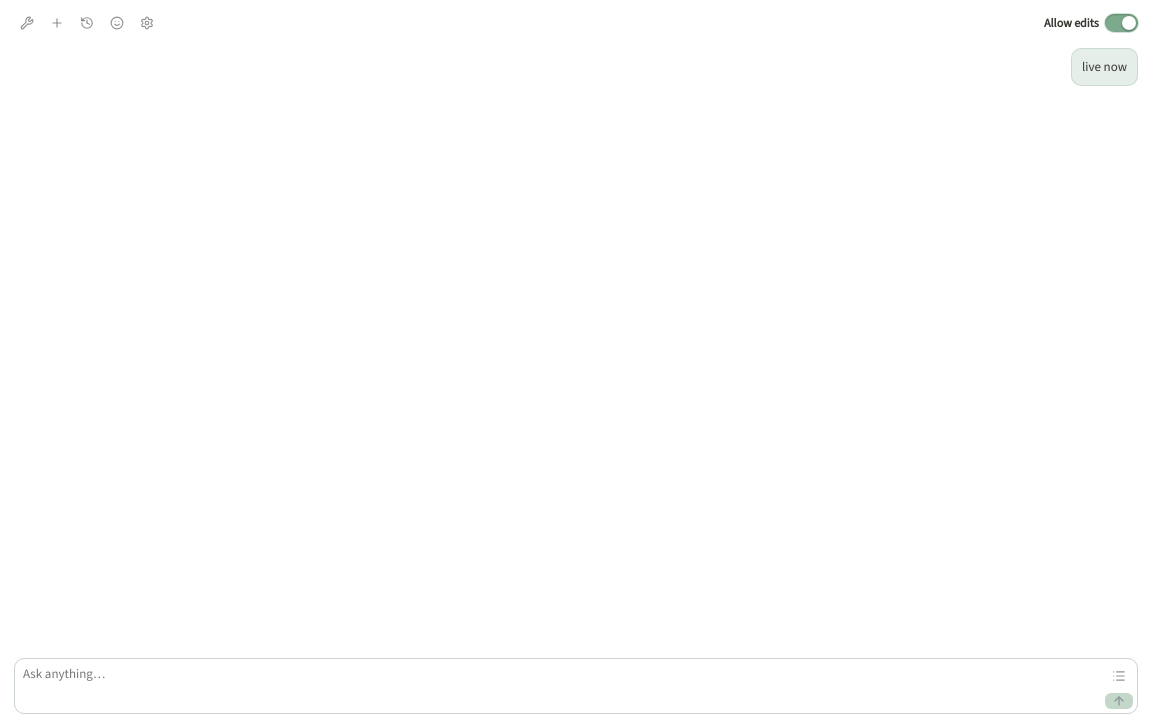
Test: SidebarChat › opens a closed session and renders its messages
The width and height of the screenshot is (1152, 720).
Expected: the text "live now" is shown, [1082,58,1127,75]
Step 1. Click the button with test id "chat-history-btn" → click(87, 23), box [74,10,100,36]
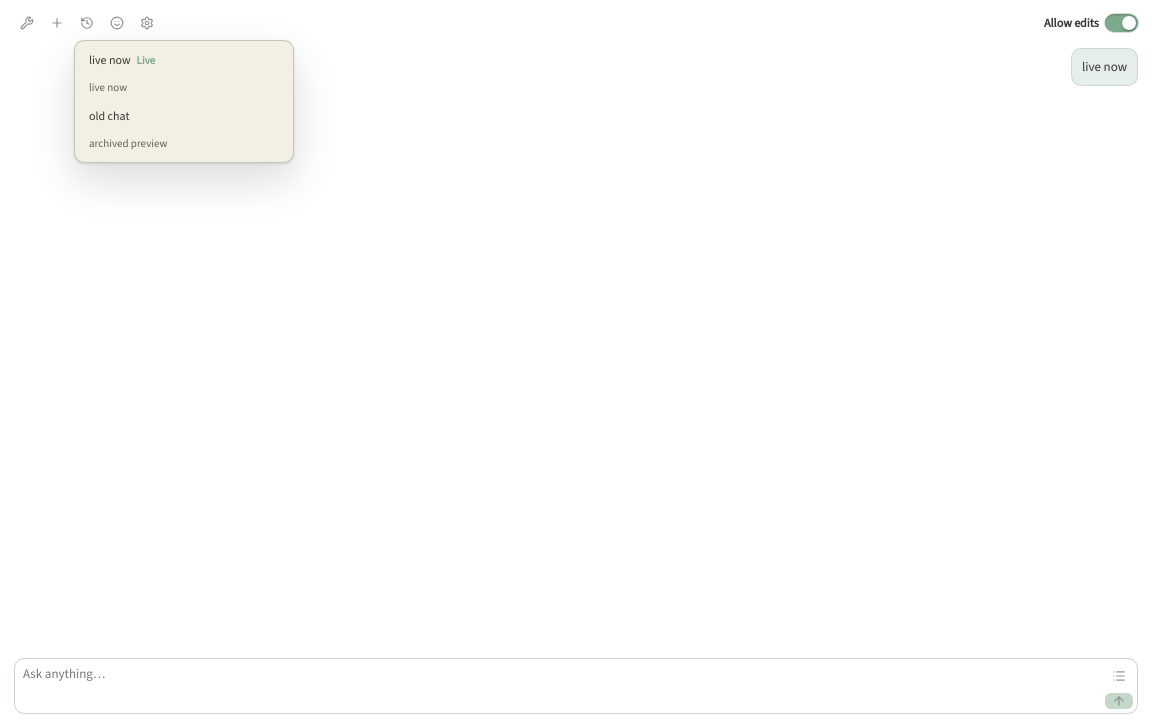
Expected: the button with test id "chat-session-s-old" is shown
Expected: the button with test id "chat-session-s-live" reads "live now Live live now", [79,46,289,101]
Expected: the button with test id "chat-session-s-old" shows "archived preview"
Step 2. Click the button with test id "chat-session-s-old" → click(184, 130), box [79,102,289,157]
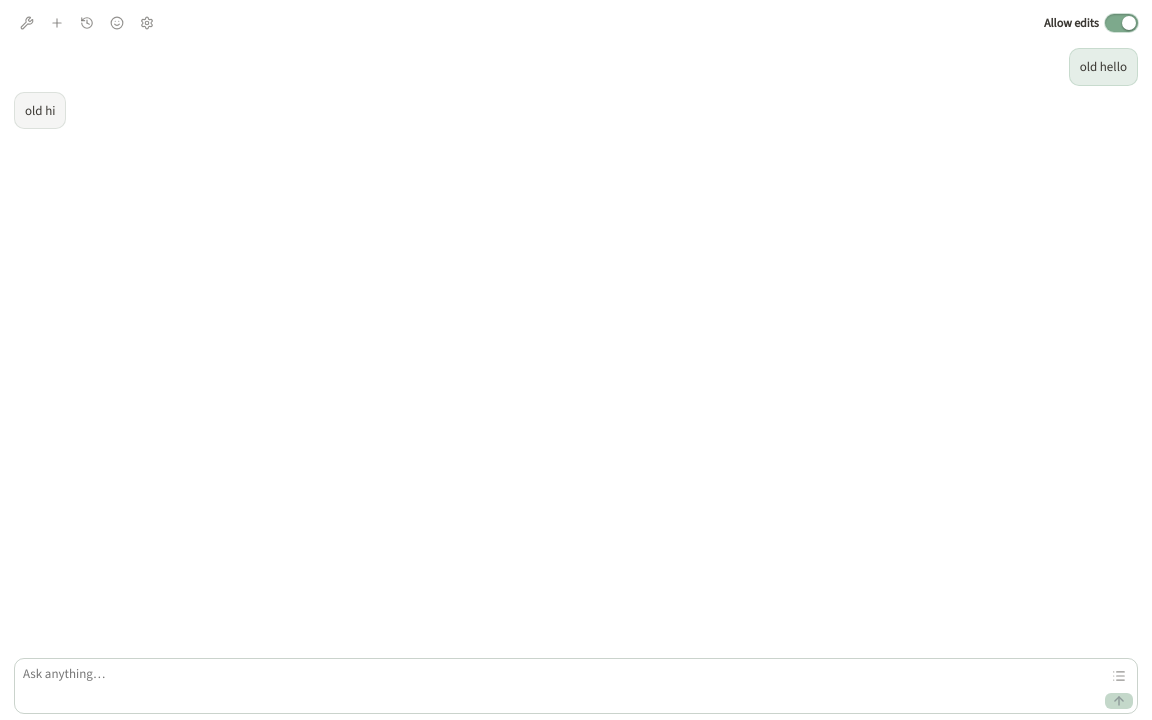
Expected: the text "old hello" is shown, [1080,58,1127,75]
Expected: the text "old hi" is shown, [25,102,56,118]
Expected: the text "live now" is gone
